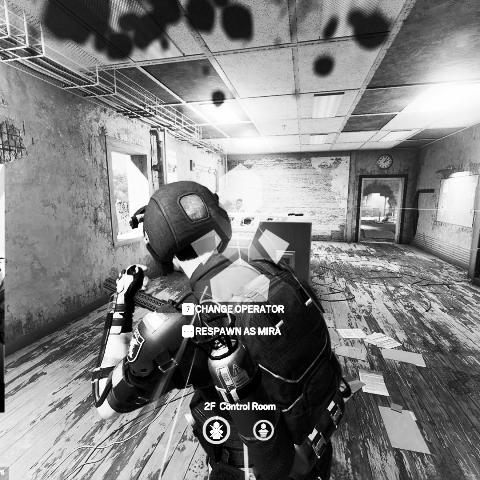Character: (91, 180, 352, 480), (226, 198, 246, 212)
Head: (138, 181, 232, 279), (236, 199, 243, 208)
